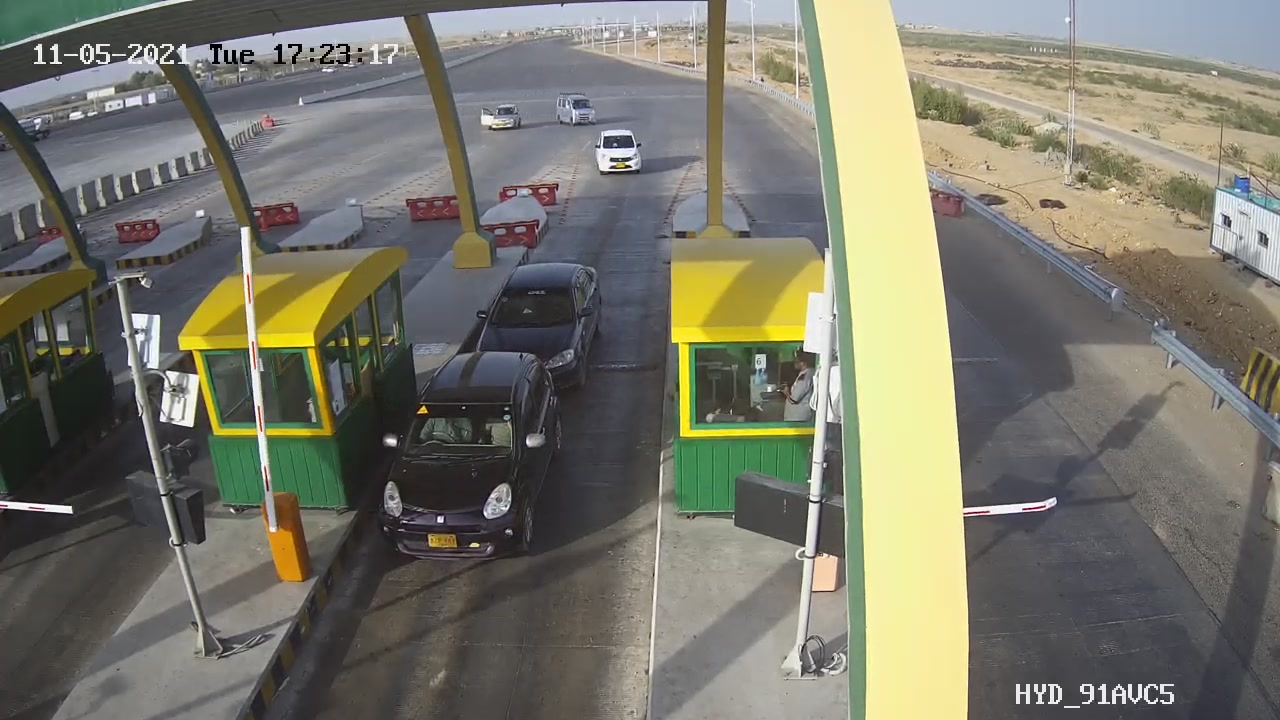F1: (357, 336, 586, 578), (460, 247, 625, 404)
